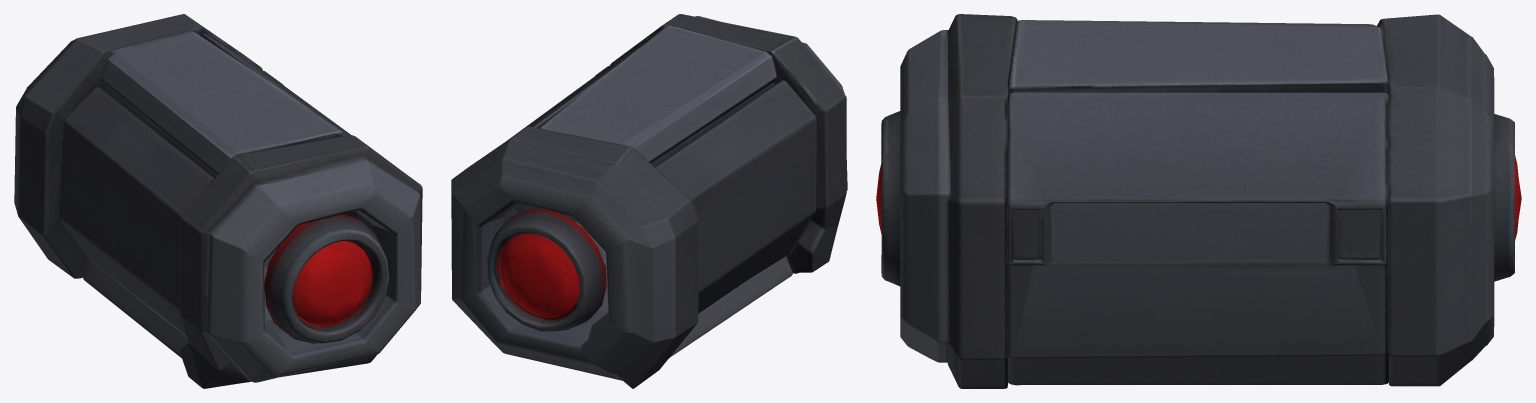
The model's file is SecurityLaserEmitter.glb.
The picture shows the model from 3 angles, left to right: view 1: azimuth 30°, elevation 25°; view 2: azimuth 150°, elevation 25°; view 3: azimuth 270°, elevation 25°; orthographic projection. The views are drawn at different scales.
Visible parts, largest first — view 1: tripo_node_533b4316-a1e8-4382-959c-ccc7e6605a7e; view 2: tripo_node_533b4316-a1e8-4382-959c-ccc7e6605a7e; view 3: tripo_node_533b4316-a1e8-4382-959c-ccc7e6605a7e.
Boxes of the visible parts, x1,y1,x2,y2 form: tripo_node_533b4316-a1e8-4382-959c-ccc7e6605a7e: (14, 14, 422, 388); tripo_node_533b4316-a1e8-4382-959c-ccc7e6605a7e: (451, 14, 847, 388); tripo_node_533b4316-a1e8-4382-959c-ccc7e6605a7e: (876, 14, 1521, 388).
Size of the model in its own units: 0.5474 by 0.5112 by 0.9995.
1 material, 1 textured.
